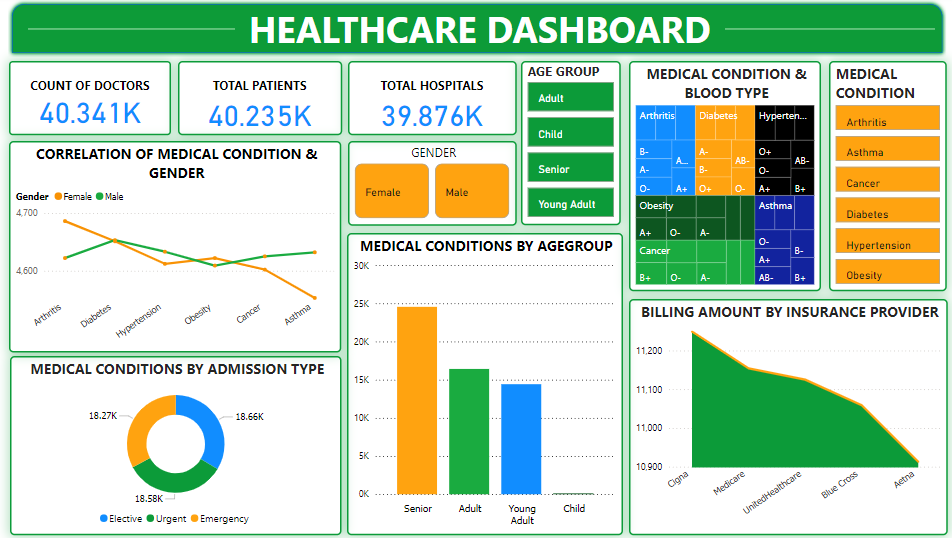

The dashboard page shown, as its layout file describes it:
{"tool":"powerbi","page":{"name":"Page 1","canvas":[1280,720],"ordinal":0},"visuals":[{"type":"shape","box":[13.8,0,1251.1,75.7],"z":1000},{"type":"areaChart","title":"BILLING AMOUNT BY INSURANCE PROVIDER","fields":{"Category":["Healthcare_Dataset.Insurance Provider"],"Y":["Healthcare_Dataset.Billing Amount"]},"box":[840.9,399,424.8,314.6],"z":2000},{"type":"textbox","box":[328.9,0,640.7,75.8],"z":3000},{"type":"clusteredColumnChart","title":"MEDICAL CONDITIONS BY AGEGROUP","fields":{"Category":["Healthcare_Dataset.AgeGroup"],"Y":["Healthcare_Dataset.Medical Condition"]},"box":[464.8,310.3,367.6,403.3],"z":4000},{"type":"cardVisual","title":"COUNT OF DOCTORS","fields":{"Data":["Healthcare_Dataset.Doctor"]},"box":[15.1,81.2,216.1,99.1],"z":5000},{"type":"advancedSlicerVisual","title":"GENDER","fields":{"Values":["Healthcare_Dataset.Gender"]},"box":[466.2,187.4,224.5,113],"z":6000},{"type":"cardVisual","fields":{"Data":["Healthcare_Dataset.Name"]},"box":[239.5,81.2,218.8,99.1],"z":7000},{"type":"cardVisual","fields":{"Data":["Healthcare_Dataset.Hospital"]},"box":[466.2,81.5,224.5,98.7],"z":8000},{"type":"advancedSlicerVisual","fields":{"Values":["Healthcare_Dataset.AgeGroup"]},"box":[697.9,81.5,133,218.8],"z":10000},{"type":"shape","box":[969.7,0,280.3,77.2],"z":10500},{"type":"donutChart","title":"MEDICAL CONDITIONS BY ADMISSION TYPE","fields":{"Category":["Healthcare_Dataset.Admission Type"],"Y":["Healthcare_Dataset.Medical Condition"]},"box":[15.7,474.8,441.9,238.8],"z":11000},{"type":"advancedSlicerVisual","fields":{"Values":["Healthcare_Dataset.Medical Condition"]},"box":[1108.4,81.5,157.3,307.5],"z":12000},{"type":"shape","box":[40,0,276,77.2],"z":13000},{"type":"treemap","title":"MEDICAL CONDITION & BLOOD TYPE","fields":{"Group":["Healthcare_Dataset.Medical Condition"],"Values":["Healthcare_Dataset.Blood Type"],"Details":["Healthcare_Dataset.Blood Type"]},"box":[840.9,81.5,256,307.5],"z":14000},{"type":"lineChart","title":"CORRELATION OF MEDICAL CONDITION & GENDER","fields":{"Category":["Healthcare_Dataset.Medical Condition"],"Y":["Healthcare_Dataset.Medical Condition"],"Series":["Healthcare_Dataset.Gender"]},"box":[14.3,187.4,443.4,281.7],"z":14500}]}

Visuals, with their boxes in screenshot pixels (x1, y1, x2, y2), scaled from the page's 1280x720 canvas onto the 952x538 screenshot:
shape: pyautogui.locateOnScreen(10, 0, 941, 57)
"BILLING AMOUNT BY INSURANCE PROVIDER" areaChart: pyautogui.locateOnScreen(625, 298, 941, 533)
textbox: pyautogui.locateOnScreen(245, 0, 721, 57)
"MEDICAL CONDITIONS BY AGEGROUP" clusteredColumnChart: pyautogui.locateOnScreen(346, 232, 619, 533)
"COUNT OF DOCTORS" cardVisual: pyautogui.locateOnScreen(11, 61, 172, 135)
"GENDER" advancedSlicerVisual: pyautogui.locateOnScreen(347, 140, 514, 224)
cardVisual - Healthcare_Dataset.Name: pyautogui.locateOnScreen(178, 61, 341, 135)
cardVisual - Healthcare_Dataset.Hospital: pyautogui.locateOnScreen(347, 61, 514, 135)
advancedSlicerVisual - Healthcare_Dataset.AgeGroup: pyautogui.locateOnScreen(519, 61, 618, 224)
shape: pyautogui.locateOnScreen(721, 0, 930, 58)
"MEDICAL CONDITIONS BY ADMISSION TYPE" donutChart: pyautogui.locateOnScreen(12, 355, 340, 533)
advancedSlicerVisual - Healthcare_Dataset.Medical Condition: pyautogui.locateOnScreen(824, 61, 941, 291)
shape: pyautogui.locateOnScreen(30, 0, 235, 58)
"MEDICAL CONDITION & BLOOD TYPE" treemap: pyautogui.locateOnScreen(625, 61, 816, 291)
"CORRELATION OF MEDICAL CONDITION & GENDER" lineChart: pyautogui.locateOnScreen(11, 140, 340, 351)
